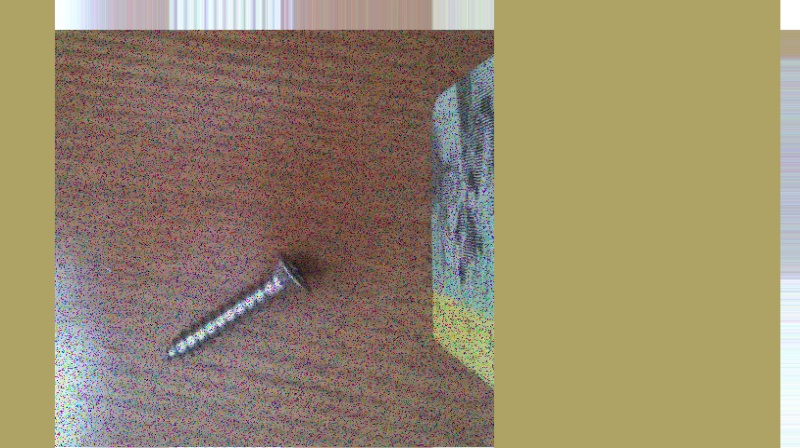S001: (158, 246, 314, 364)
